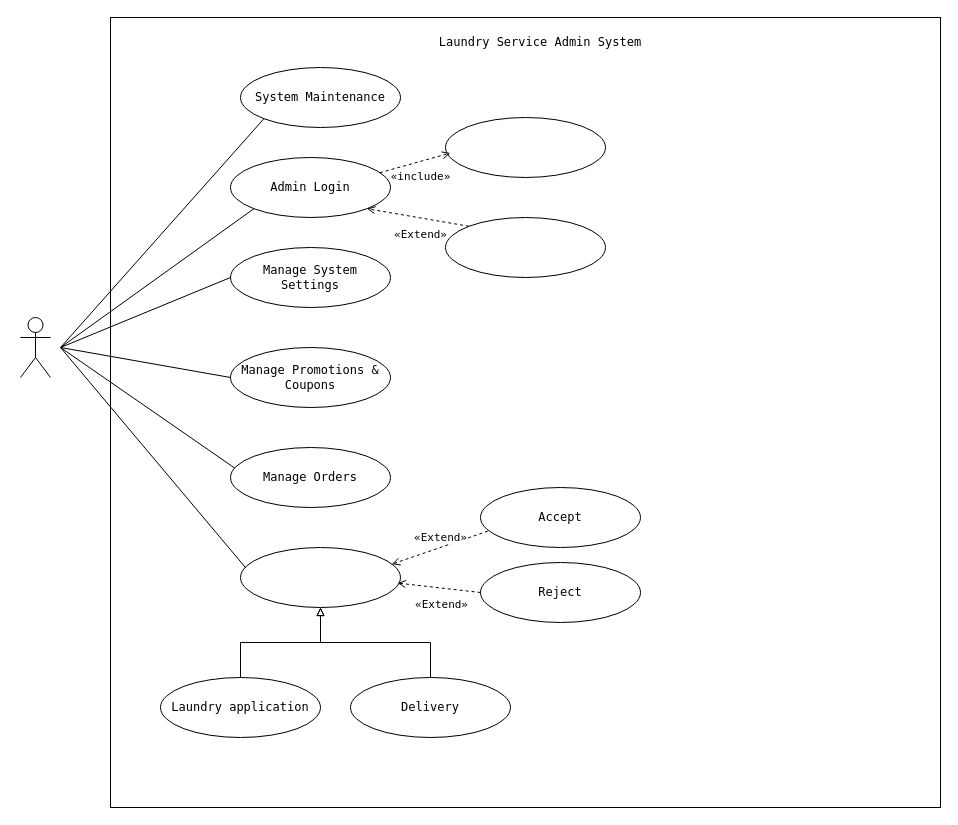
Some shapes in this 958 by 825 pixel diagram are drawn without their labels. Each missing label, with the box of its shape:
Admin: (20, 316, 50, 378)
Display Error Message: (444, 216, 606, 278)
Review Job Application: (240, 546, 400, 608)
Validate Credentials: (444, 116, 606, 178)
